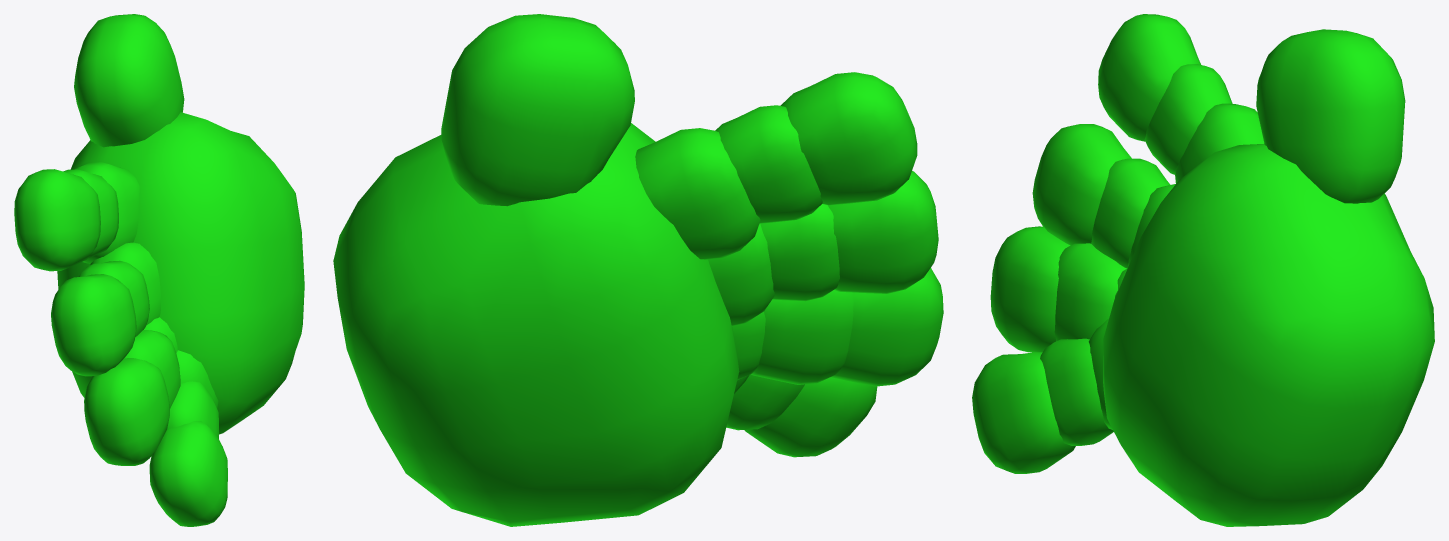
The model's file is mainGaucheSingeVert.gltf.
The picture shows the model from 3 angles, left to right: view 1: azimuth 30°, elevation 25°; view 2: azimuth 150°, elevation 25°; view 3: azimuth 270°, elevation 25°; orthographic projection. The views are drawn at different scales.
Parts seen in each view (by area): view 1: Roundcube.016; view 2: Roundcube.016; view 3: Roundcube.016.
Boxes of the visible parts, x1,y1,x2,y2 form: Roundcube.016: [14, 14, 304, 526]; Roundcube.016: [333, 14, 943, 526]; Roundcube.016: [972, 14, 1434, 526].
Bounding box in the file's own units: 0.7219 × 0.8054 × 0.7167.
